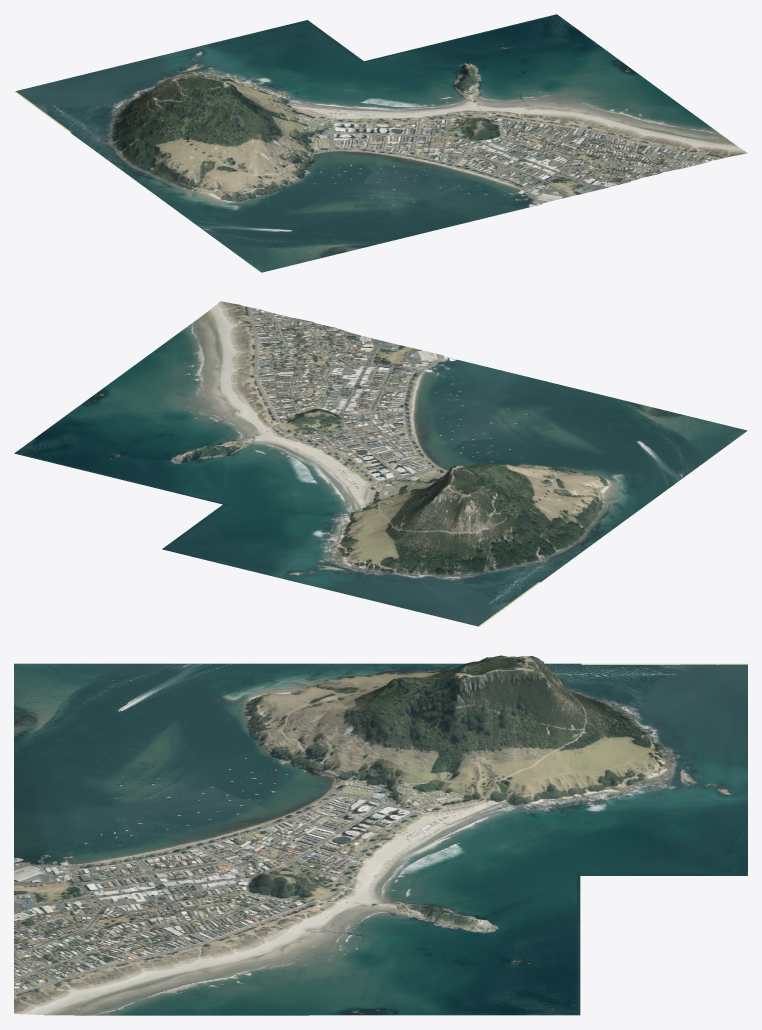
The model's file is MtMaunganuiSmaller.fbx.
The picture shows the model from 3 angles, top to bottom: view 1: azimuth 30°, elevation 25°; view 2: azimuth 150°, elevation 25°; view 3: azimuth 270°, elevation 25°; orthographic projection. The views are drawn at different scales.
Visible parts, largest first — view 1: TerrainNode; view 2: TerrainNode; view 3: TerrainNode.
Part boxes in pixels (box(x1,y1,x2,y2)): TerrainNode: box(14, 14, 747, 272); TerrainNode: box(14, 301, 747, 626); TerrainNode: box(14, 655, 747, 1015).
Size of the model in its own units: 239601 by 23178 by 211205.
